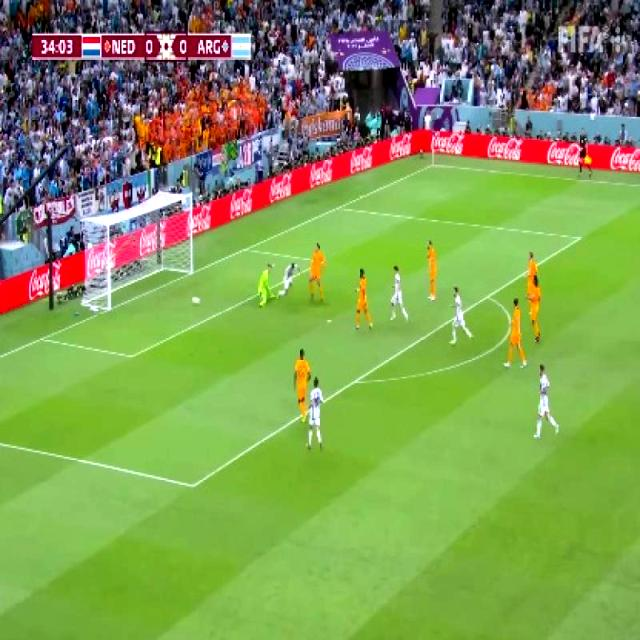bigarea_bottom_inner: (183, 471, 203, 499)
bigarea_top_inner: (570, 226, 588, 248)
bigarea_top_outter: (331, 198, 346, 214)
bottom_arc_area_intersection: (346, 368, 364, 390)
corner: (426, 158, 442, 172)
smallarea_bottom_inner: (122, 342, 140, 368)
smallarea_bottom_outter: (32, 328, 51, 348)
smallarea_top_inner: (310, 247, 332, 274)
smallarea_top_outter: (238, 238, 252, 257)
top_arc_area_intersection: (480, 285, 495, 305)
